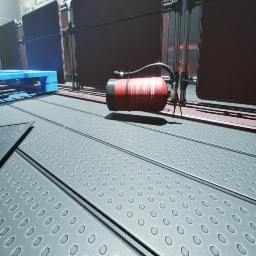FireExtinguisher ]: (106, 63, 182, 118)
FirstAidBox ,: (93, 86, 106, 90)
